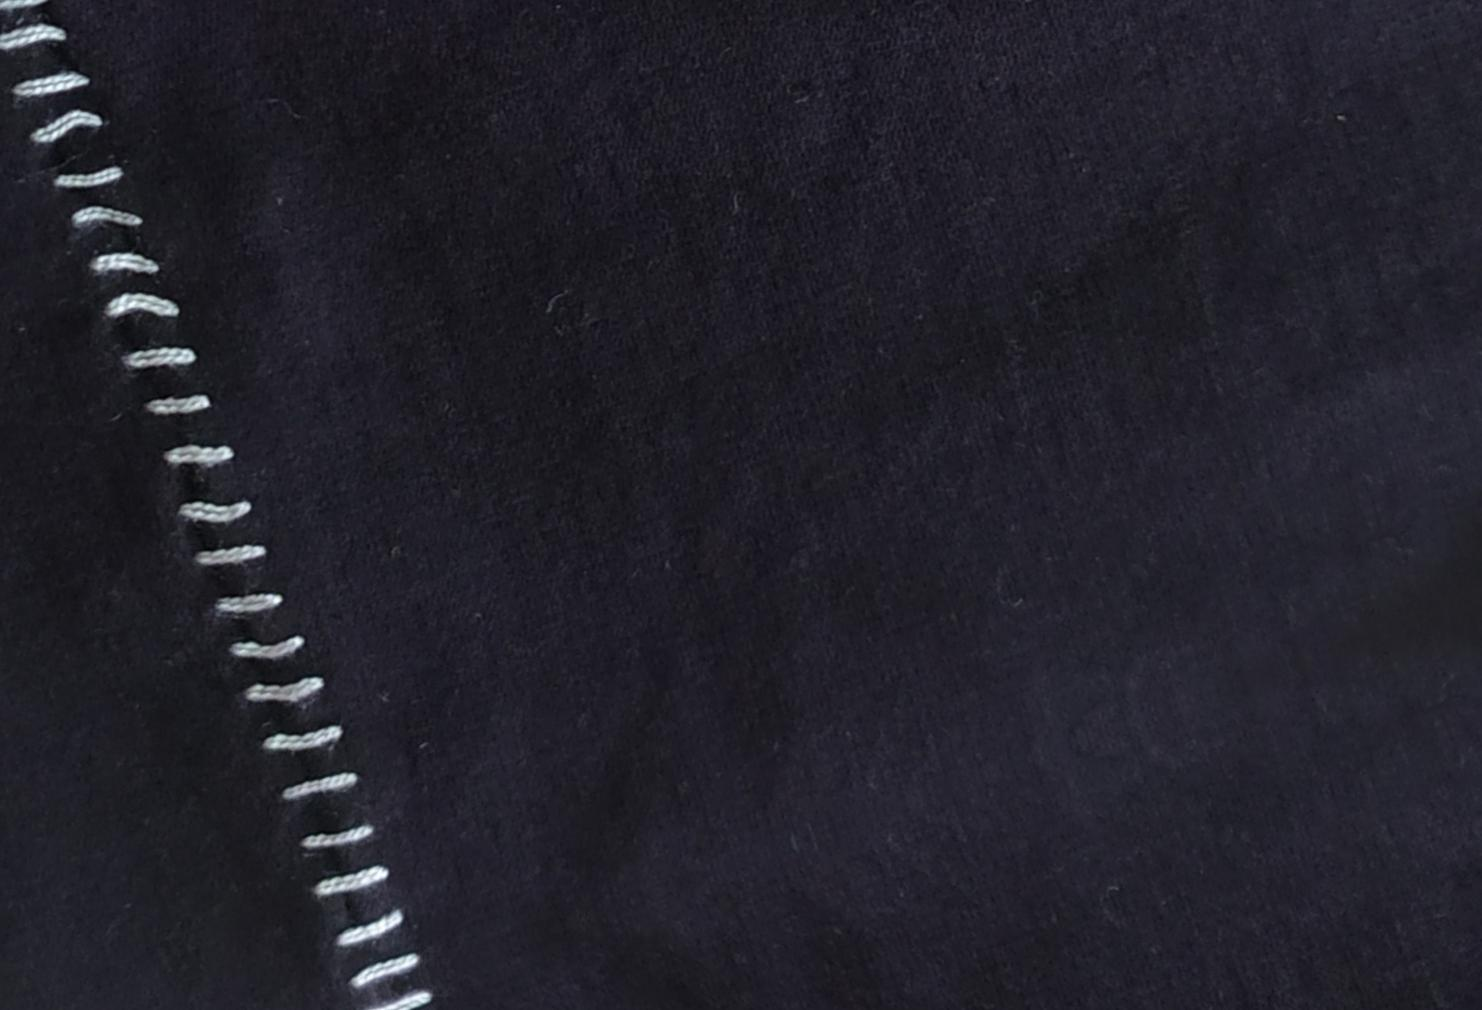slub: (2, 2, 431, 1009)
